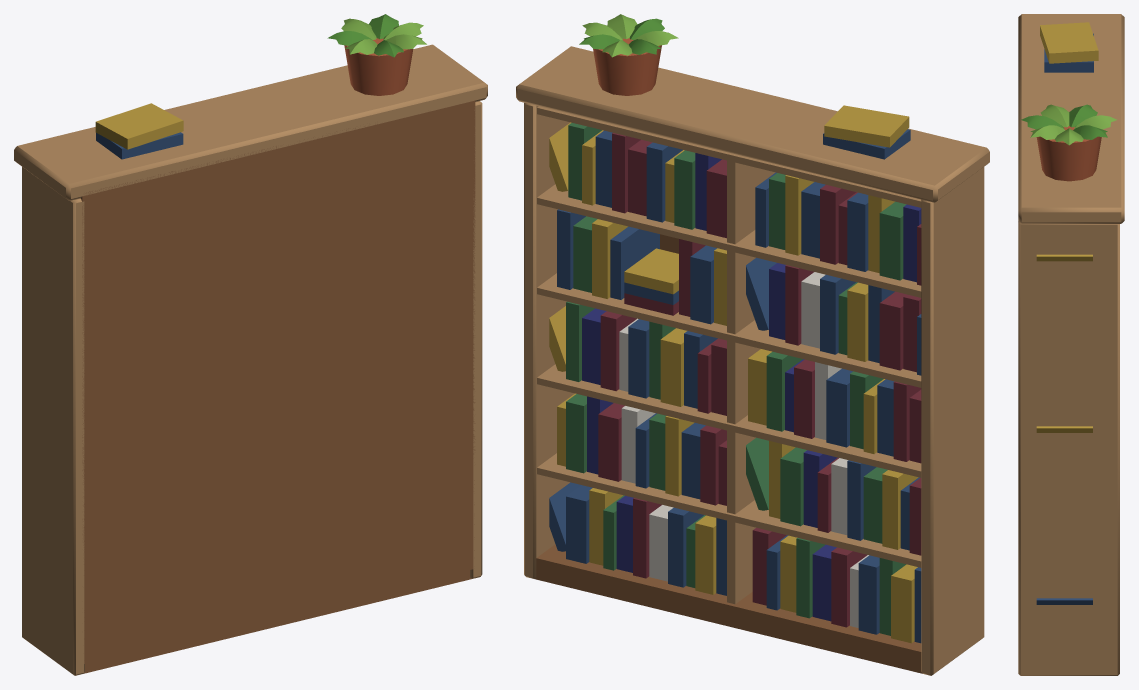
File: bookshelf_v2.glb
3 views of the same model, side by side, from view 1: azimuth 30°, elevation 25°; view 2: azimuth 150°, elevation 25°; view 3: azimuth 270°, elevation 25° (orthographic). The views are drawn at different scales.
Parts seen in each view (by area): view 1: body; view 2: body; view 3: body.
Part boxes in pixels (left/top/right/bottom): body: left=14, top=14, right=487, bottom=675; body: left=516, top=14, right=989, bottom=675; body: left=1018, top=14, right=1124, bottom=675.
Size of the model in its own units: 2.06 by 2.55 by 0.47.
